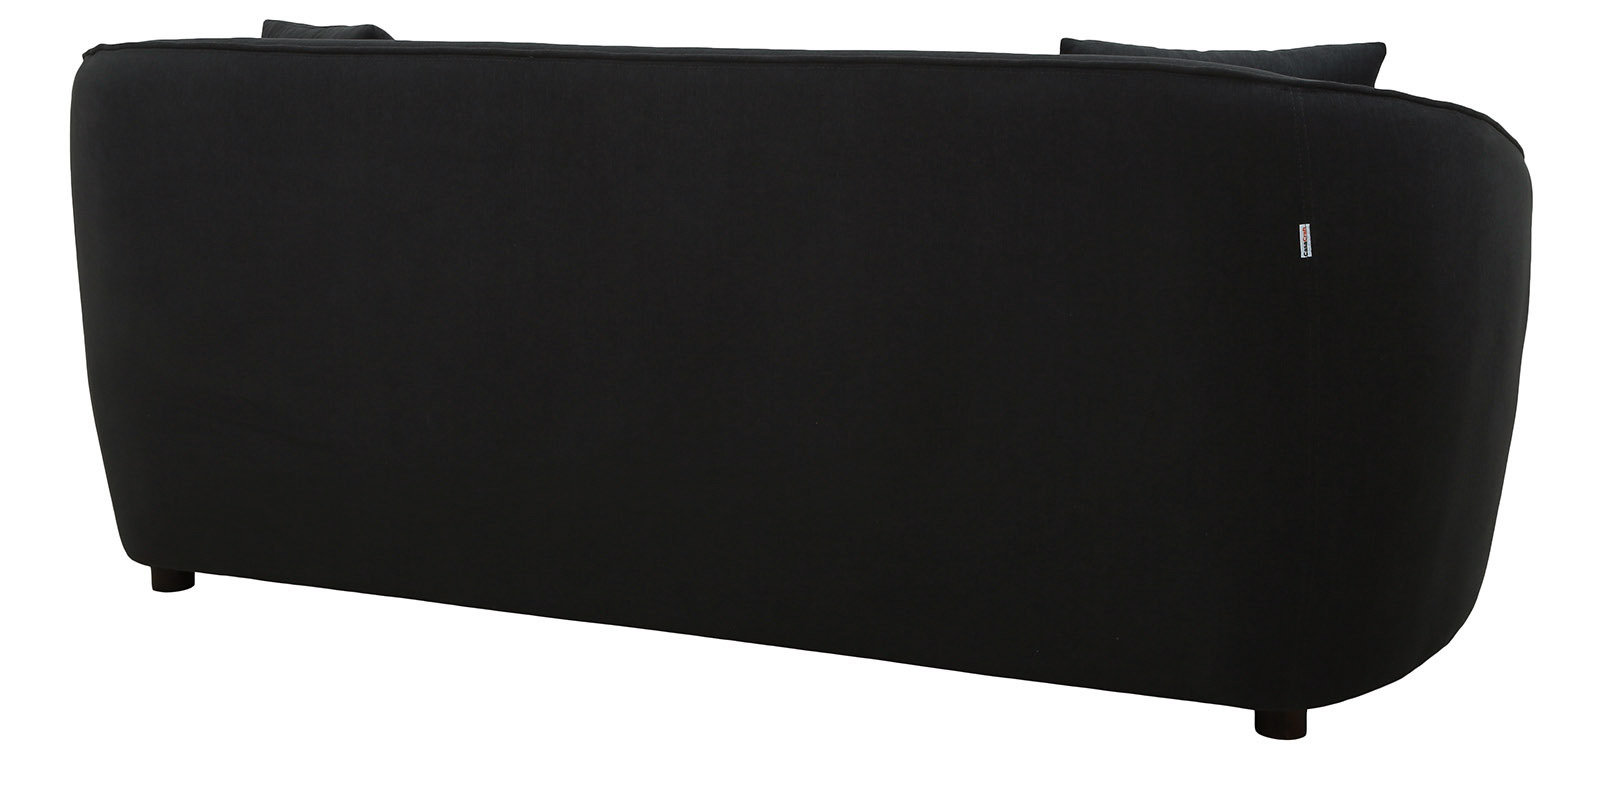Mamore Three Seater Sofa in Charcoal Grey Color by CasaCraft: (67, 14, 1533, 741)
